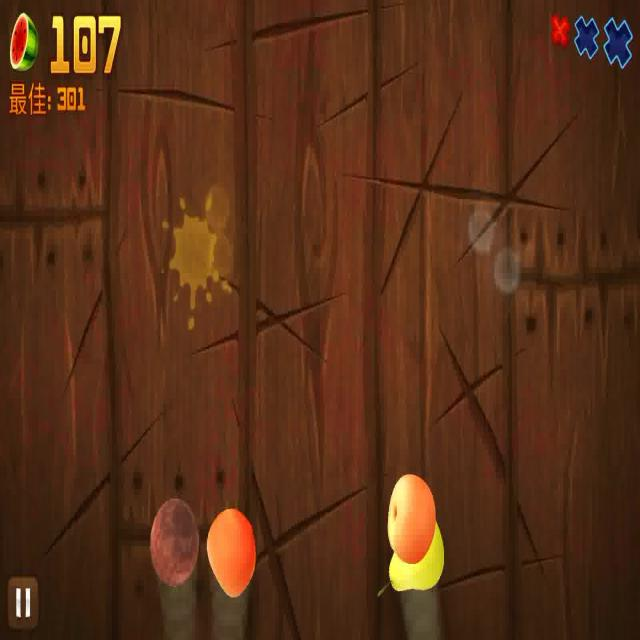fruit: (378, 520, 446, 594), (387, 470, 436, 564), (207, 504, 256, 594), (150, 498, 200, 584)
